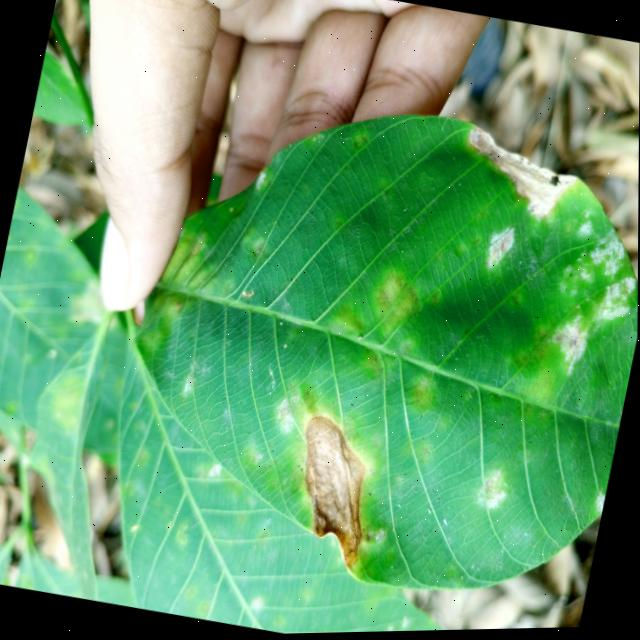Leaf-Blight: (281, 411, 387, 572), (456, 124, 584, 227)
